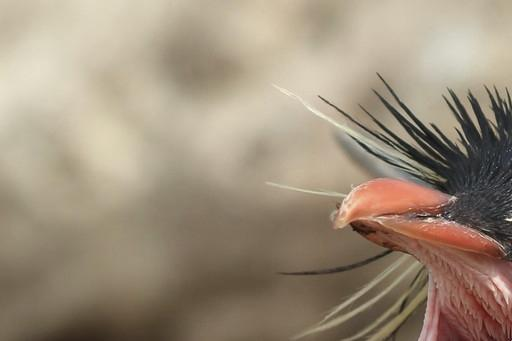Southern Rockhopper Penguin: (236, 71, 512, 341)
